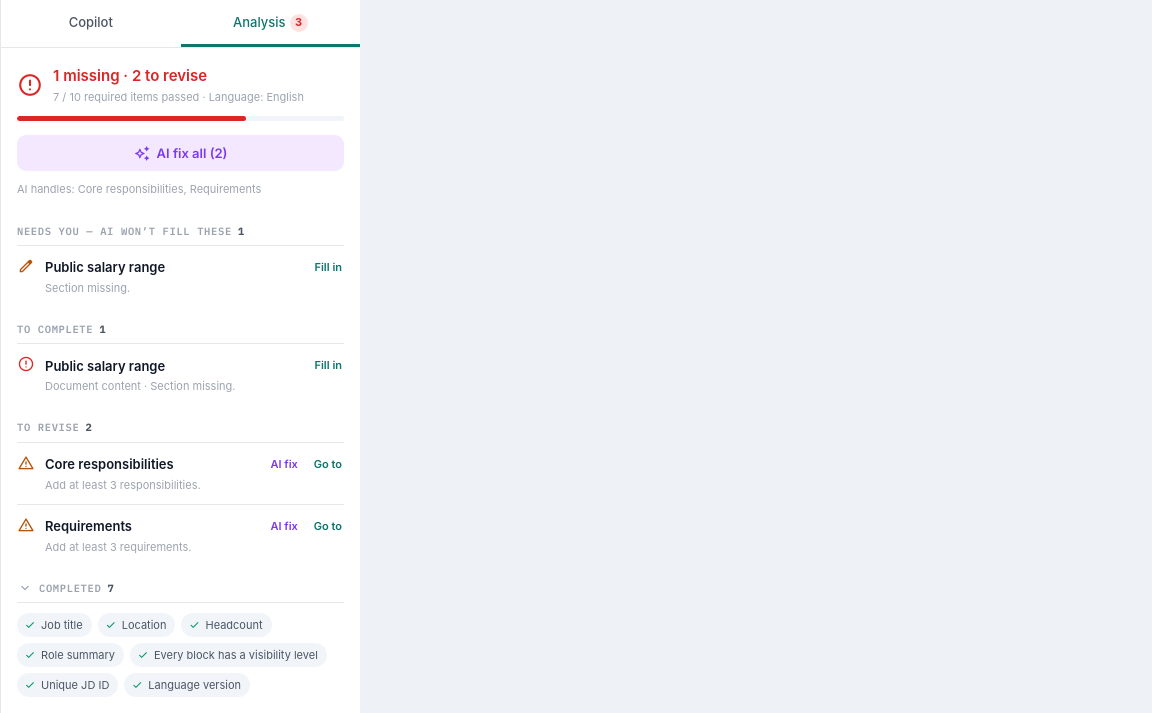
Test case: single AI fix (#94) › AC-1/AC-2: shows original vs new before anything changes; Reject leaves the text as it was
Click the 1st button with class "req-link-ai". click: {"x": 284, "y": 464}
box: left=262, top=453, right=306, bottom=476
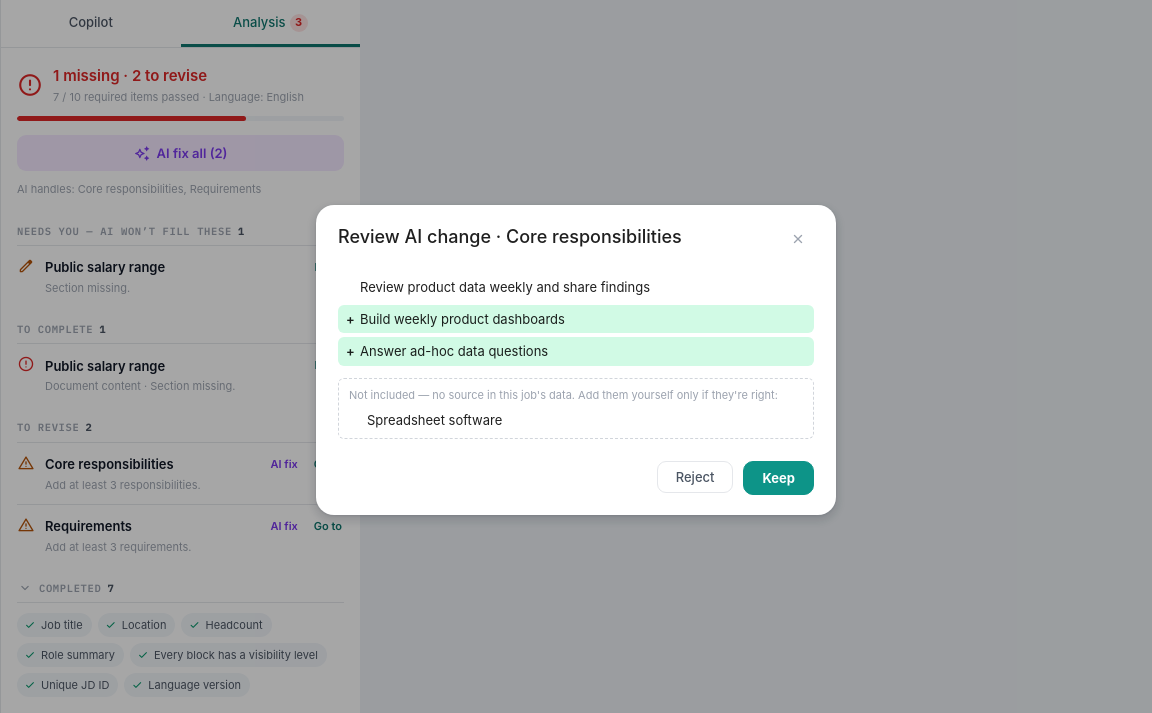
Check: the heading "Review AI change · Core responsibilities" is shown, box left=338, top=222, right=682, bottom=251
Check: the list item "Spreadsheet software" is shown, box left=367, top=412, right=502, bottom=428
Click the button "Reject". click: {"x": 695, "y": 478}
box: left=657, top=462, right=733, bottom=494
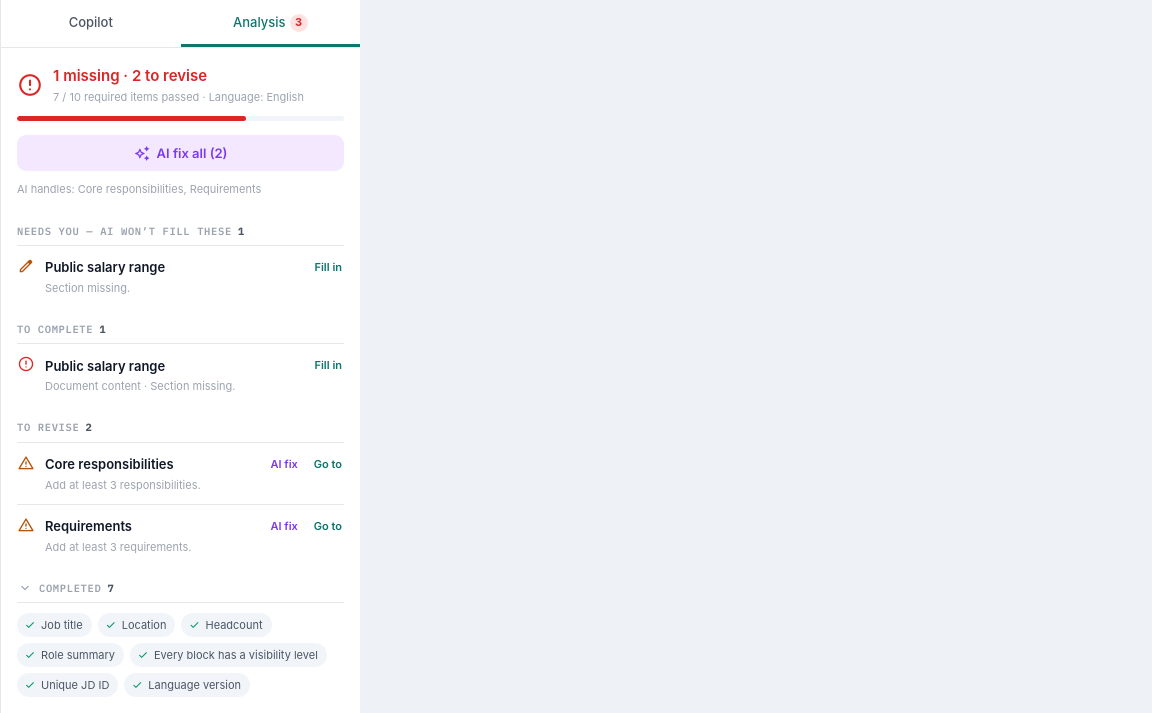
Check: the heading "Review AI change" is gone
